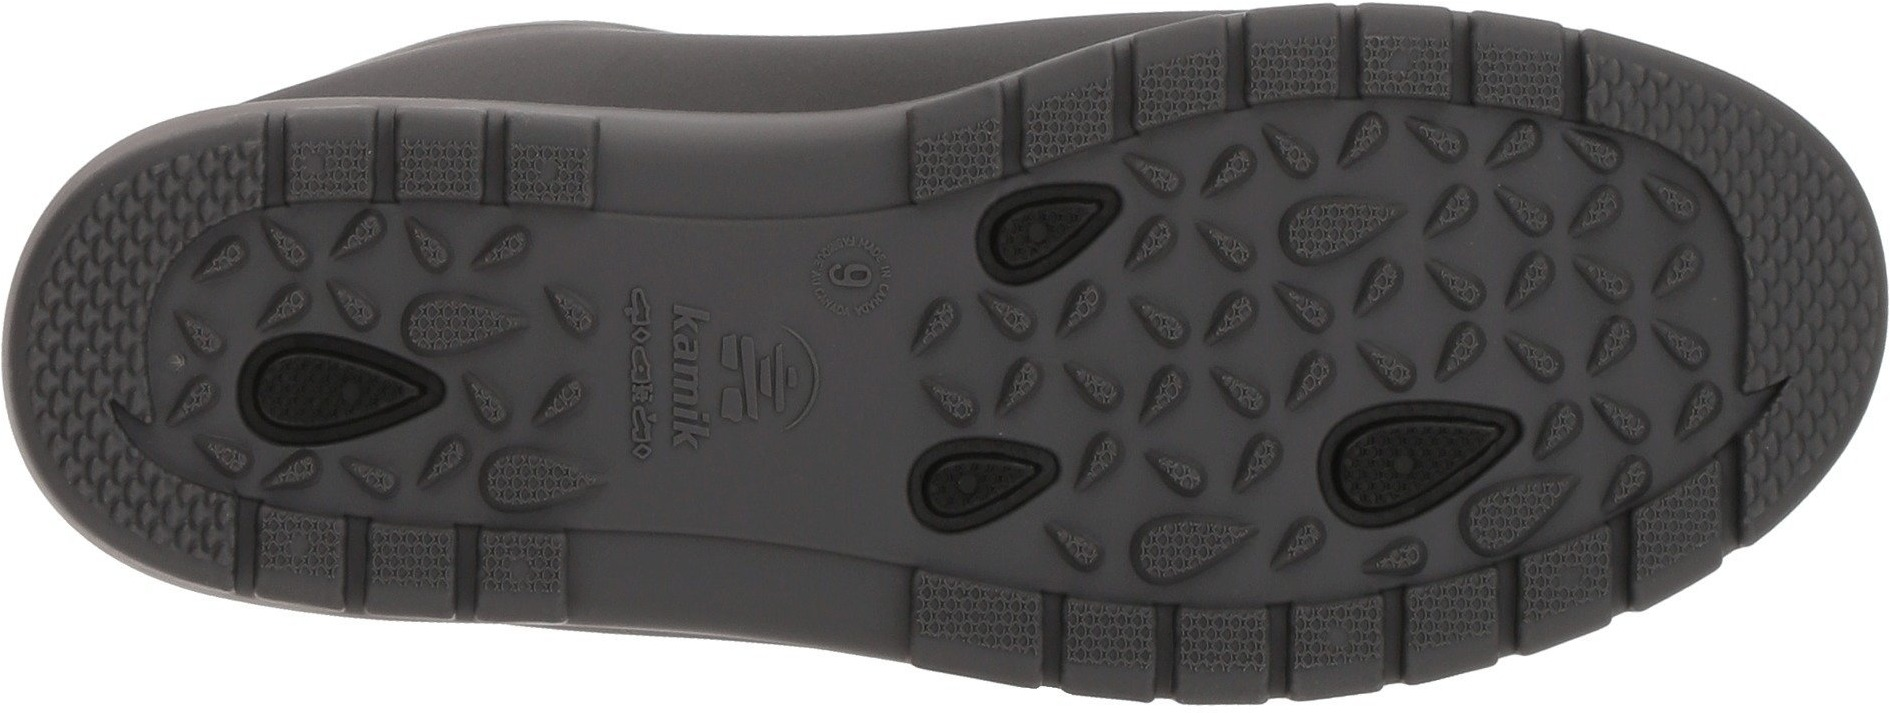other: (636, 132, 811, 296), (640, 462, 812, 627), (1754, 228, 1876, 344)
text: (655, 350, 724, 416), (656, 297, 721, 360), (822, 243, 882, 304), (661, 406, 718, 462)
triangle: (900, 185, 1334, 577), (248, 202, 589, 530), (1411, 100, 1720, 384)
